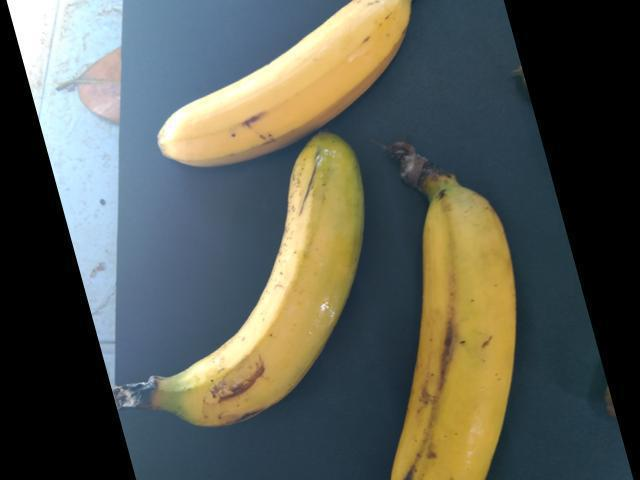freshripe: (133, 4, 419, 173)
ripe: (154, 132, 368, 447), (367, 180, 517, 479)
